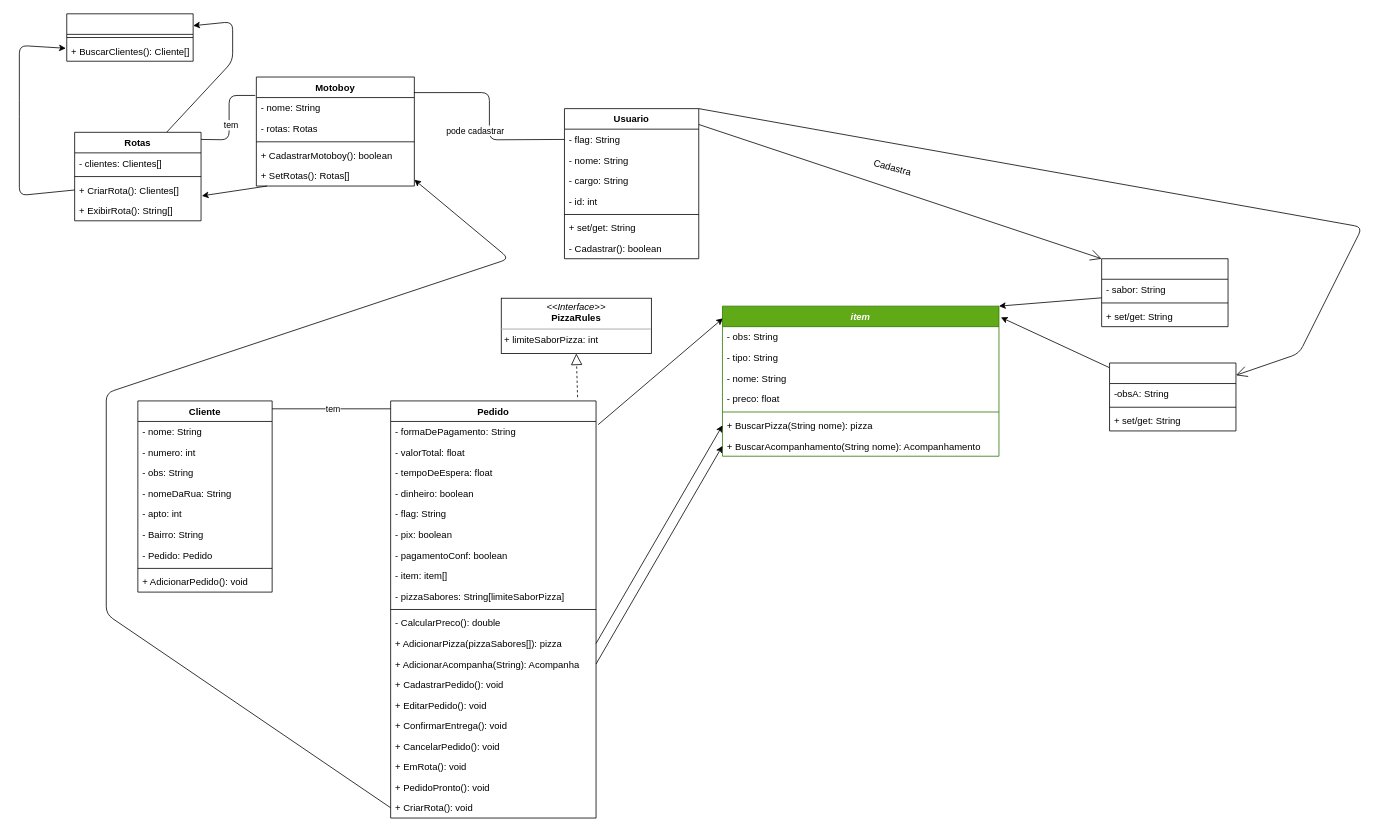
Image size: 1387x834. Some labels were removed from this diagram. The shapes that lost their labels are listed below. From the top down, each one's box as (x1, y1, x2, y2) in pixels, then its label:
(66, 13, 193, 61): ClientesHaptos
(1101, 258, 1228, 327): pizza
(1109, 362, 1236, 431): Acompanhamento
